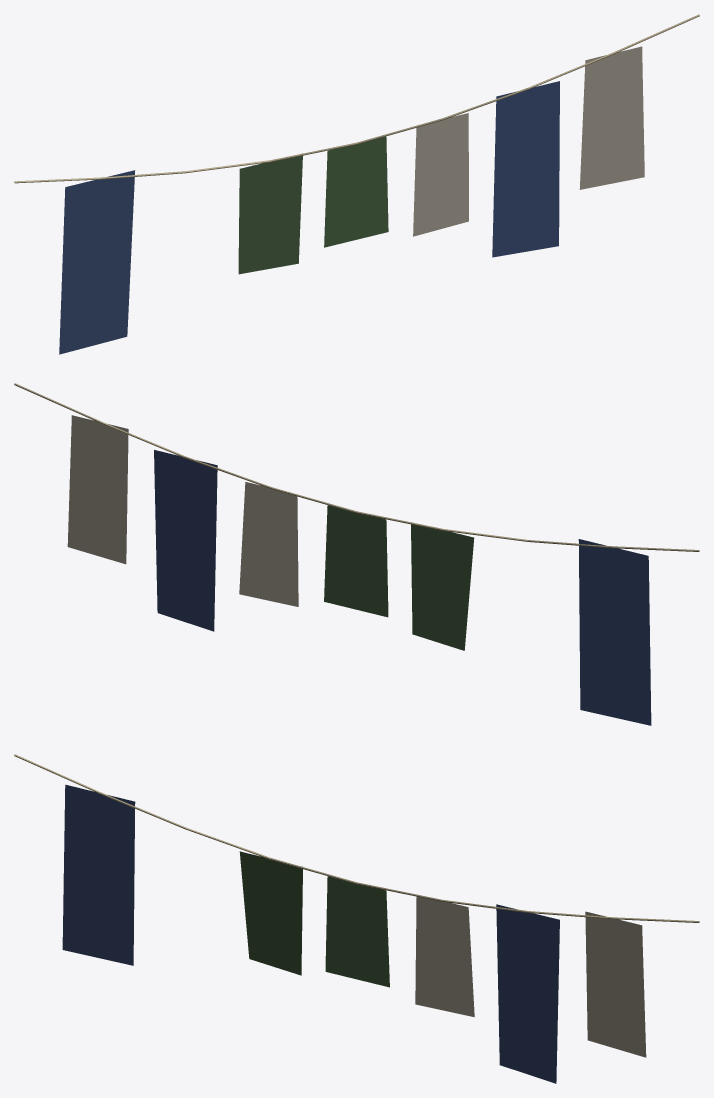
The model's file is panni-stesi.glb.
3 renders of one model, top to bottom at view 1: azimuth 30°, elevation 25°; view 2: azimuth 150°, elevation 25°; view 3: azimuth 330°, elevation 25°, orthographic.
Parts seen in each view (by area): view 1: panni-stesi; view 2: panni-stesi; view 3: panni-stesi.
Boxes of the visible parts, x1,y1,x2,y2 form: panni-stesi: (14,14,699,354); panni-stesi: (14,383,699,725); panni-stesi: (14,754,699,1083).
Bounding box in the file's own units: 4 × 1.1 × 0.0675.
